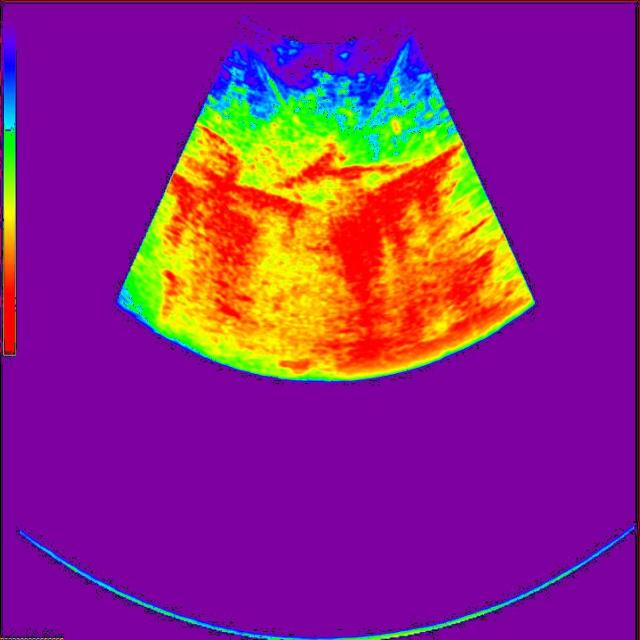chicken muscle pre: (256, 94, 374, 184)
